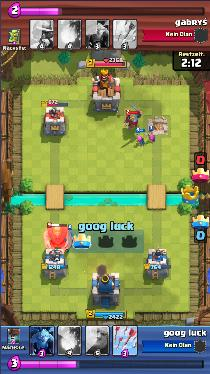ally_archer: (147, 134, 156, 144), (136, 136, 145, 145)
ally_knight: (64, 227, 75, 242)
enemy_giant: (42, 225, 72, 250)
enemy_knight: (124, 110, 143, 130)
